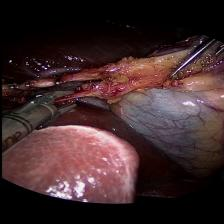Clipper: (0, 88, 83, 132)
Grasper: (164, 34, 224, 81)
